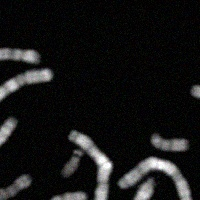chromosome: (118, 157, 193, 200), (68, 129, 112, 200), (0, 69, 53, 111), (0, 116, 18, 200), (0, 173, 31, 200), (124, 178, 156, 200), (59, 148, 82, 177), (150, 133, 187, 151), (190, 85, 200, 149), (0, 48, 41, 63), (30, 192, 88, 200)
